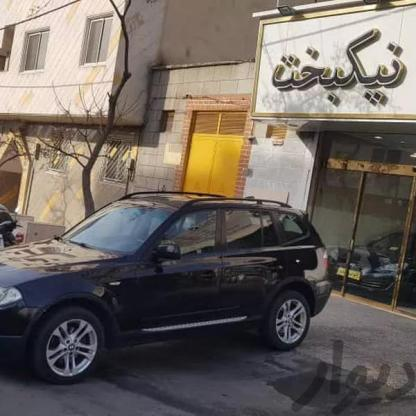Car: (0, 194, 329, 363), (315, 226, 416, 304)
